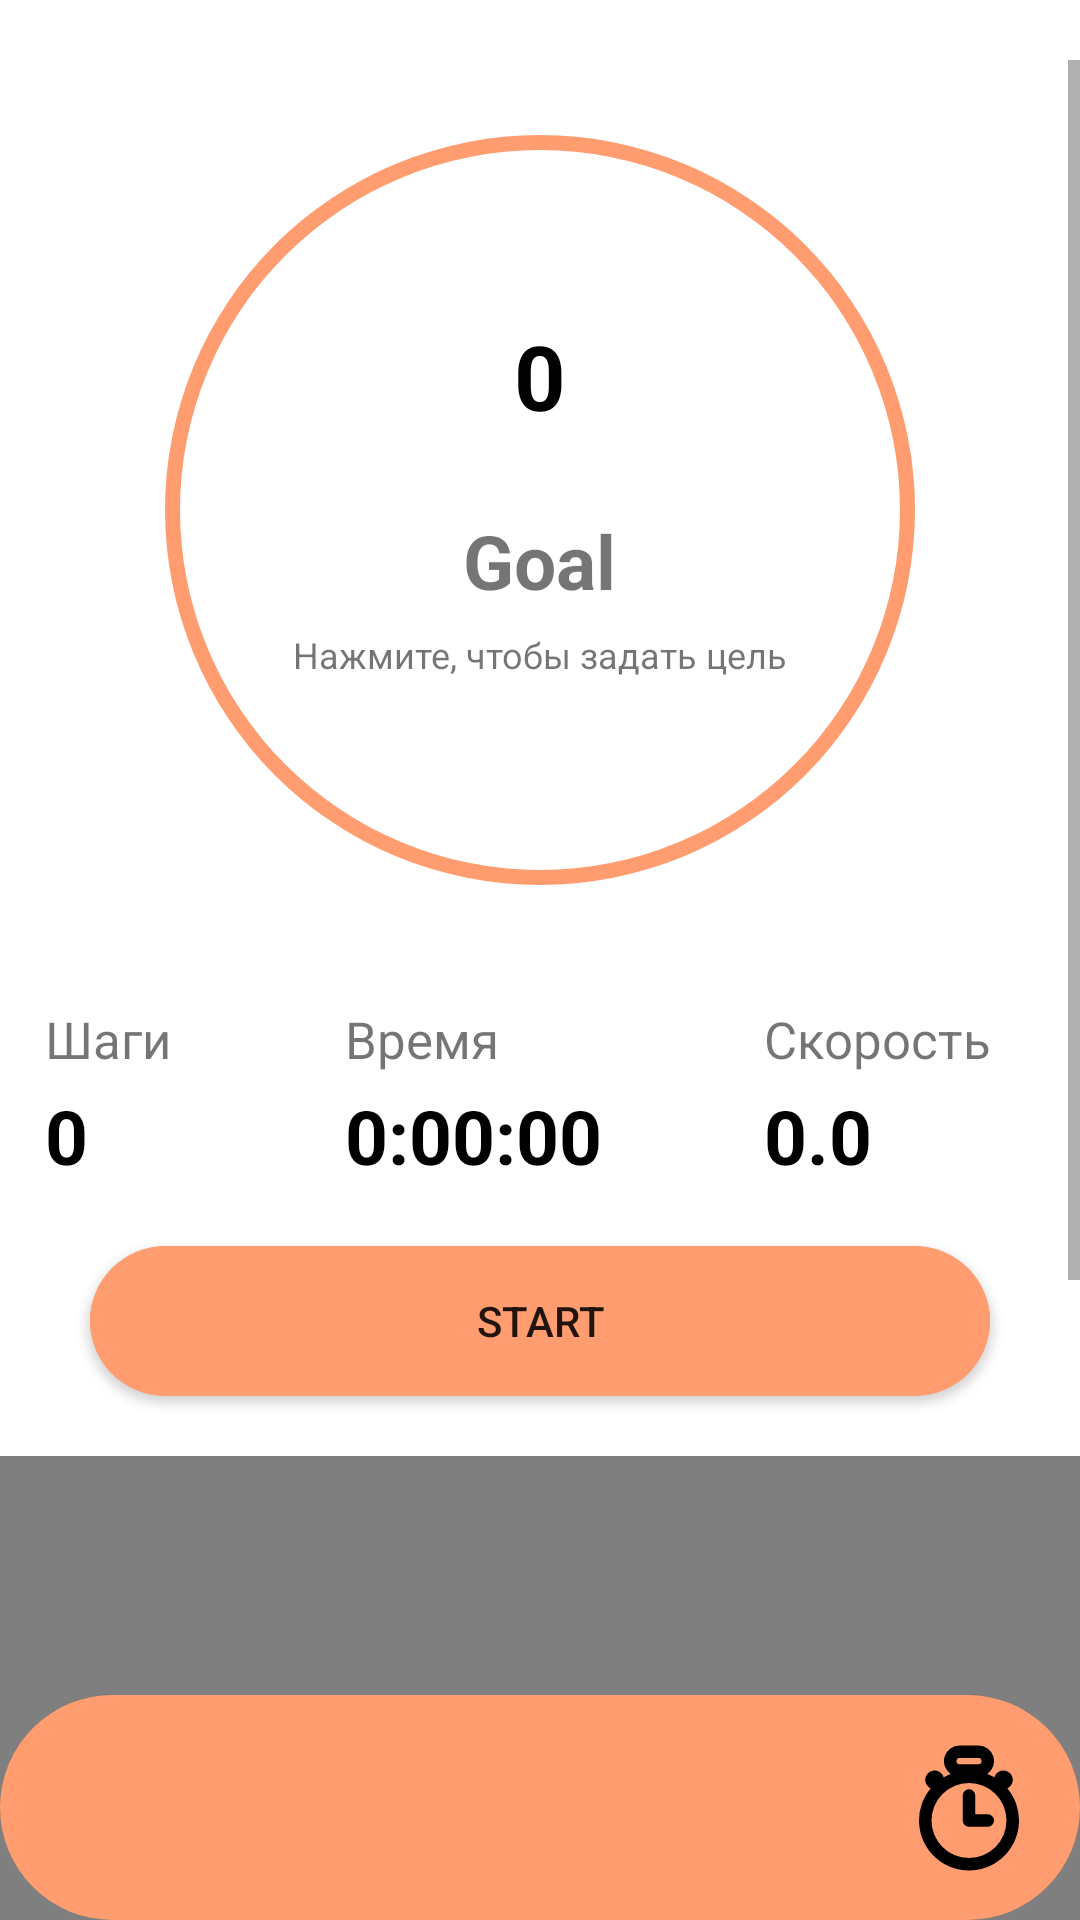

Icon click points for this 1080 × 1920 phone screenshot, format point (x, y):
chronometer: point (969, 1808)
